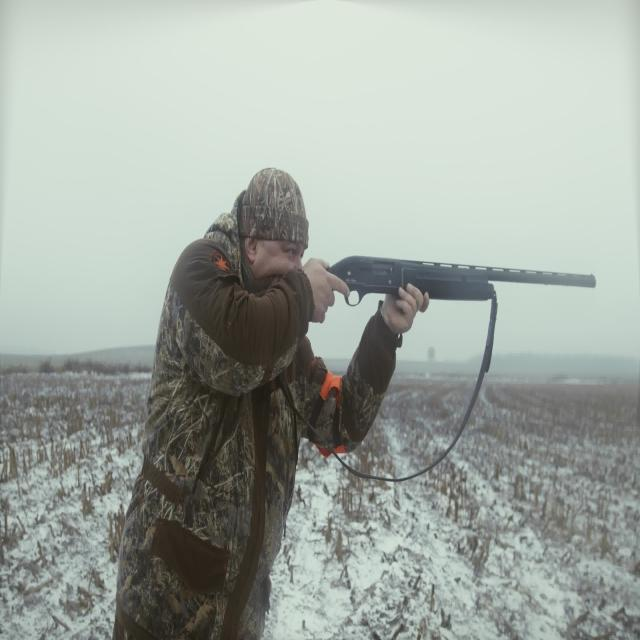poacher: (242, 214, 413, 614)
weapon: (332, 220, 560, 316)
